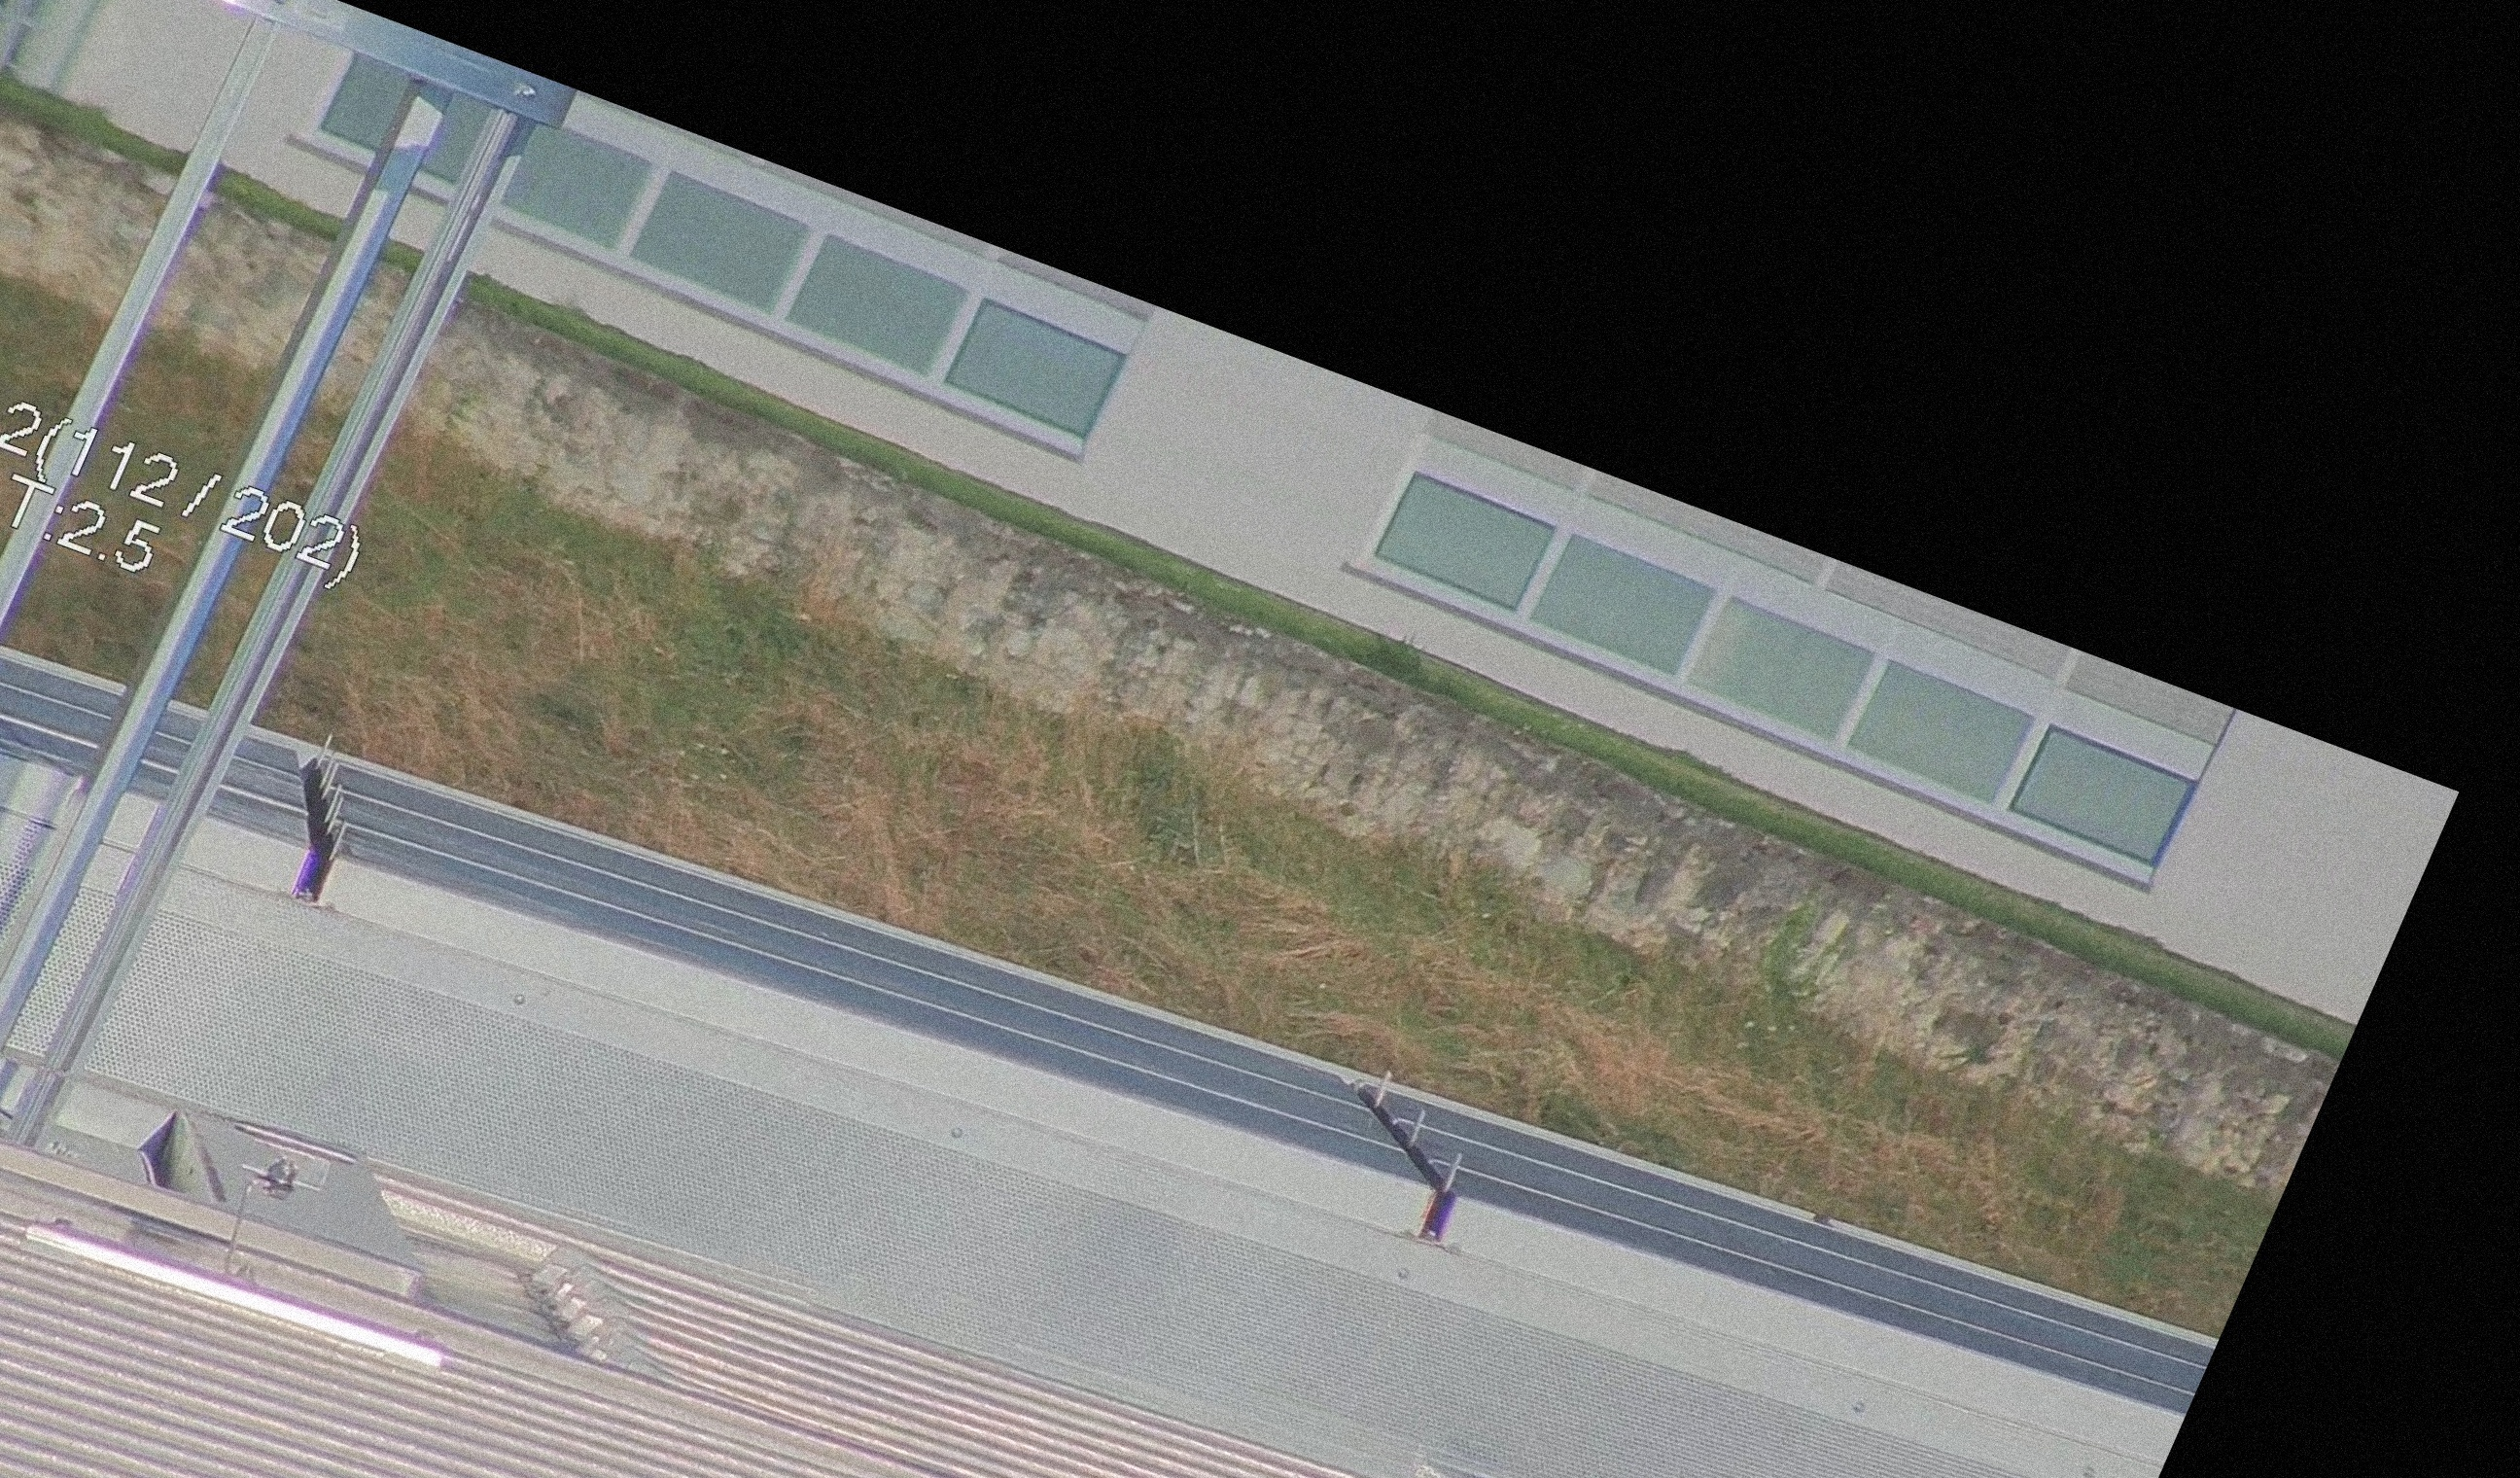Other: (215, 718, 399, 915)
